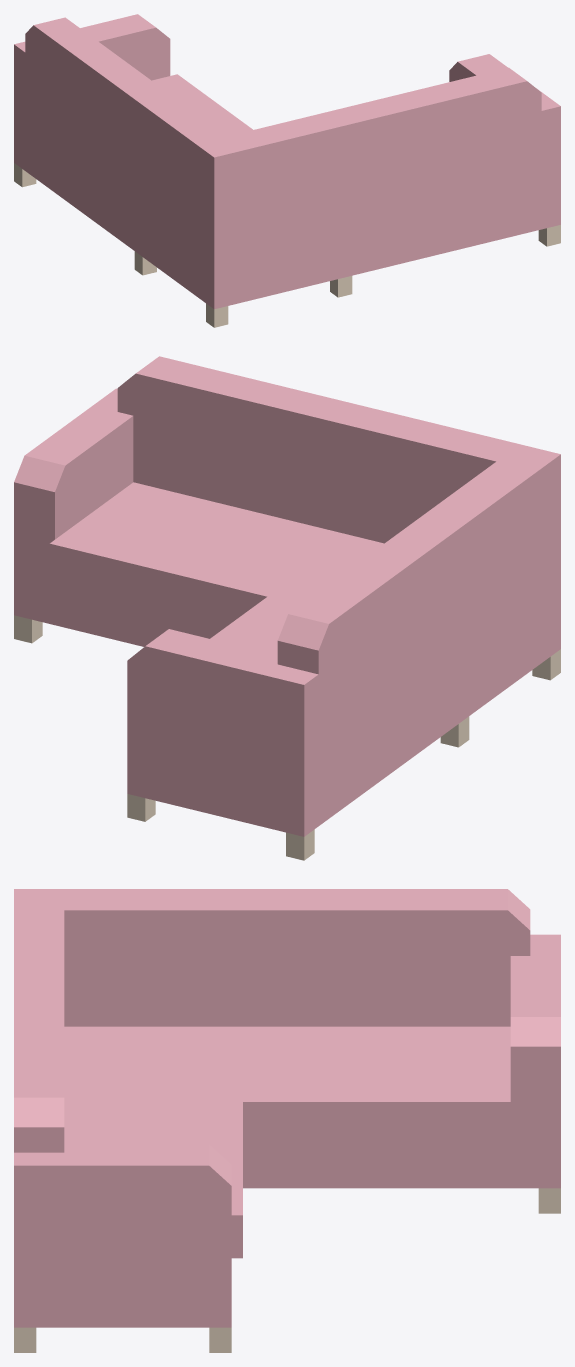
The model's file is furn_cornersofa.glb.
The picture shows the model from 3 angles, top to bottom: view 1: azimuth 30°, elevation 25°; view 2: azimuth 150°, elevation 25°; view 3: azimuth 270°, elevation 25°; orthographic projection. The views are drawn at different scales.
Visible parts, largest first — view 1: cornersofa; view 2: cornersofa; view 3: cornersofa.
Part boxes in pixels (x1,y1,x2,y2): cornersofa: (14, 14, 560, 327); cornersofa: (14, 356, 560, 860); cornersofa: (14, 889, 560, 1352).
Size of the model in its own units: 1.81 by 0.85 by 1.81.
